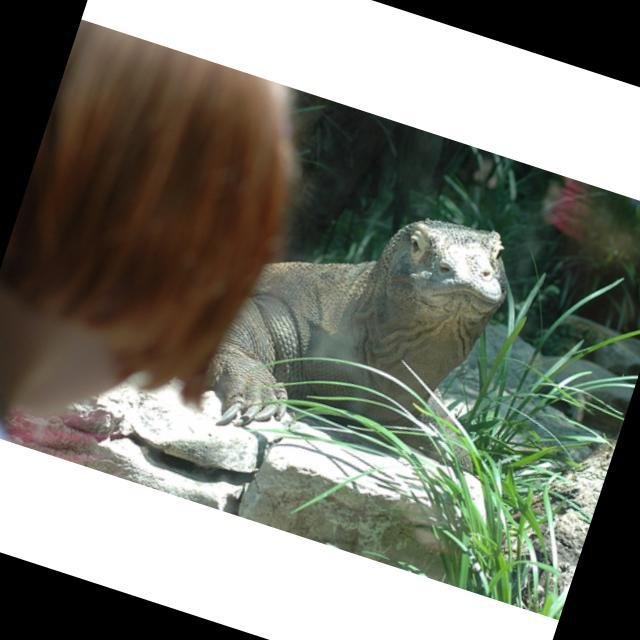KomodoDragon: (194, 158, 528, 501)
